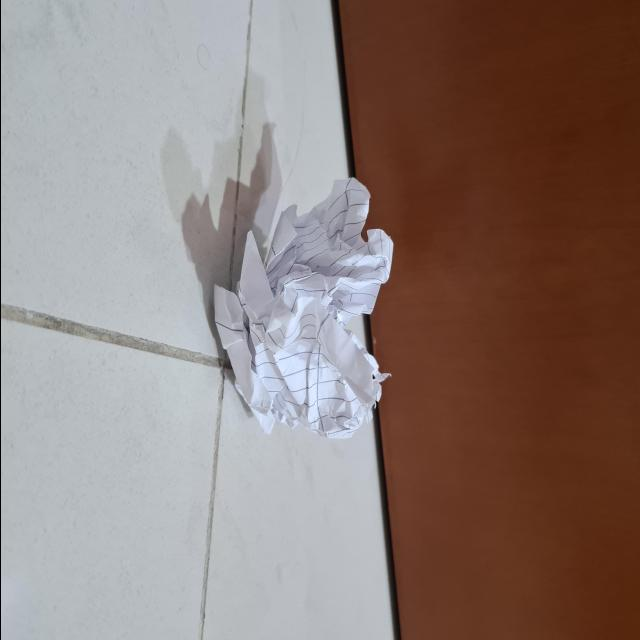kertas: (208, 154, 394, 432)
